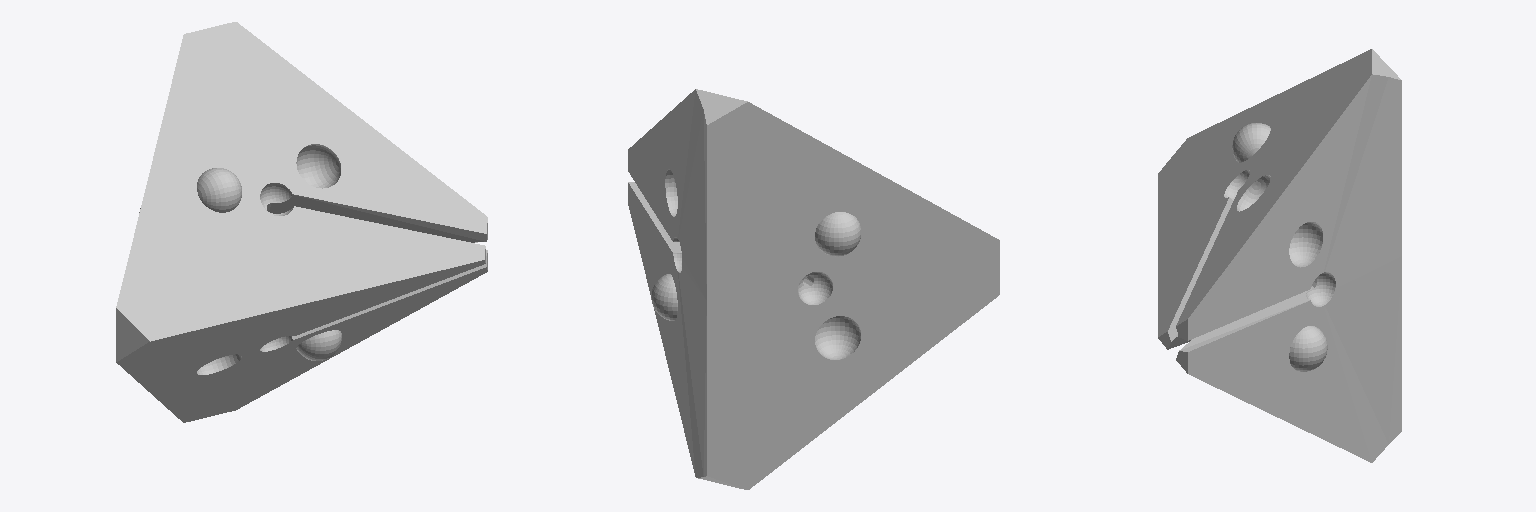
File: snake.obj
3 views of the same model, side by side, from view 1: azimuth 30°, elevation 25°; view 2: azimuth 150°, elevation 25°; view 3: azimuth 270°, elevation 25° (orthographic).
Parts seen in each view (by area): view 1: Cube_Cube.027; view 2: Cube_Cube.027; view 3: Cube_Cube.027.
Boxes of the visible parts, x1,y1,x2,y2 form: Cube_Cube.027: [116, 22, 487, 422]; Cube_Cube.027: [628, 89, 999, 489]; Cube_Cube.027: [1158, 49, 1401, 462].
Bounding box in the file's own units: 3.5 × 3.5 × 2.